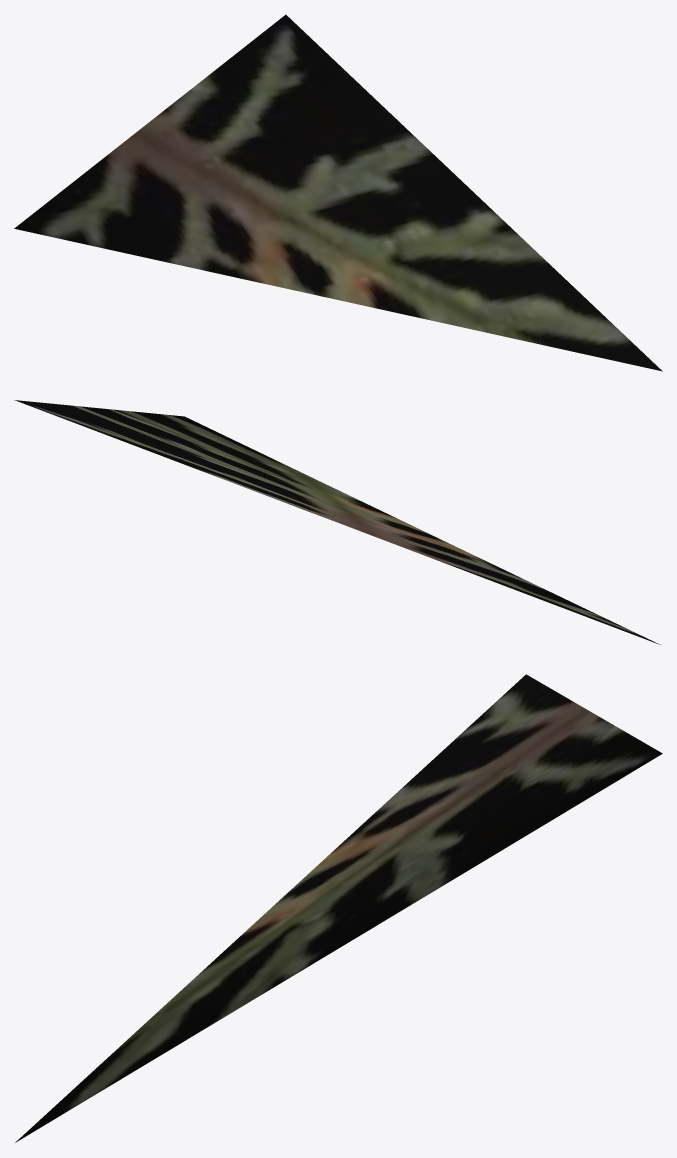
Rendered from flower_ursinia.glb.
3 renders of one model, top to bottom at view 1: azimuth 30°, elevation 25°; view 2: azimuth 150°, elevation 25°; view 3: azimuth 270°, elevation 25°, orthographic. The views are drawn at different scales.
Parts seen in each view (by area): view 1: flower_ursinia_a_LOD0; view 2: flower_ursinia_a_LOD0; view 3: flower_ursinia_a_LOD0.
Part boxes in pixels (<box>): flower_ursinia_a_LOD0: <box>14,14,662,371</box>; flower_ursinia_a_LOD0: <box>14,400,661,645</box>; flower_ursinia_a_LOD0: <box>15,674,662,1142</box>.
Size of the model in its own units: 0.0503 by 0.0226 by 0.0449.
1 material, 1 textured.
